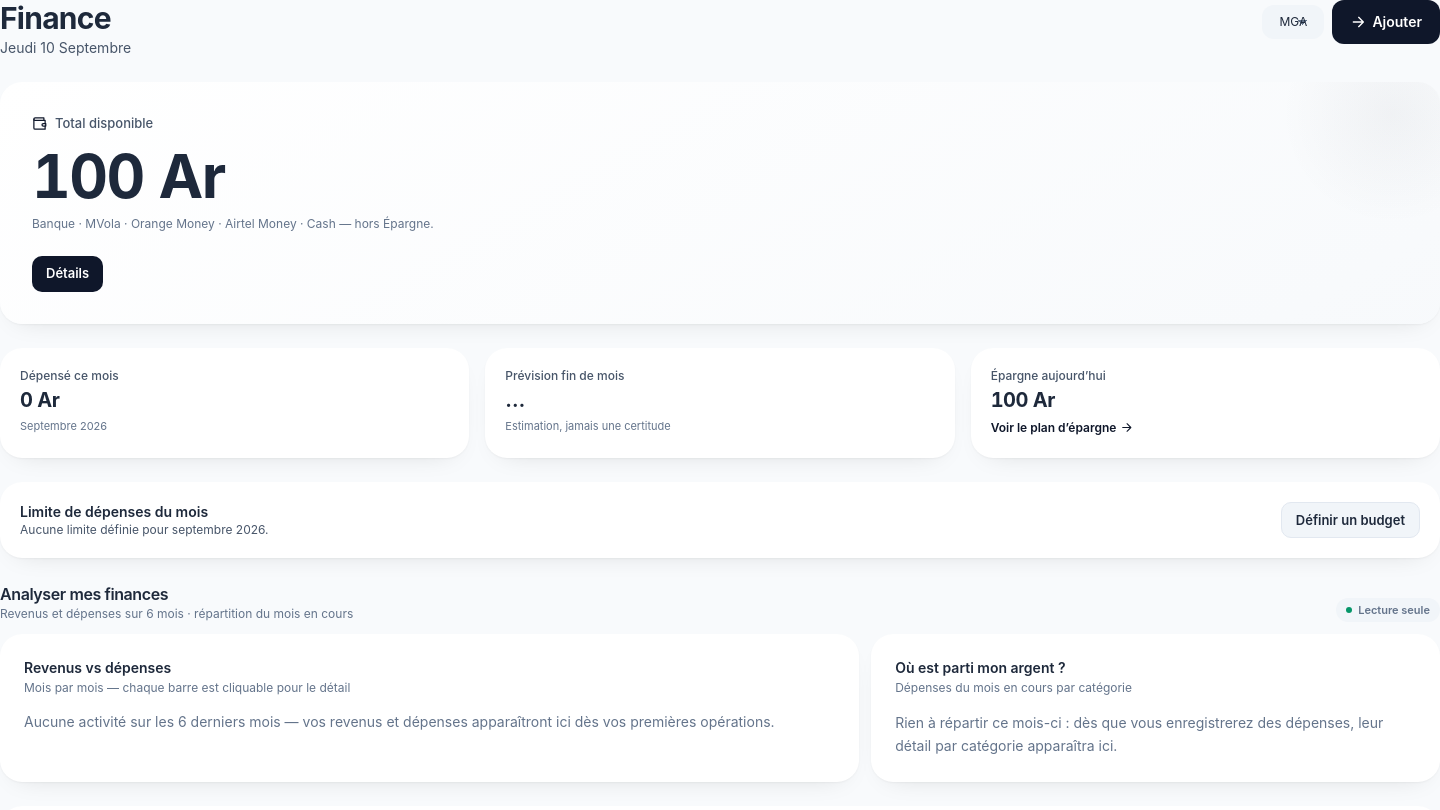
Home details list › renders AccountRow directly under ul without nested li or React warnings
Click the button "Détails": (68, 274) left=32, top=256, right=103, bottom=292
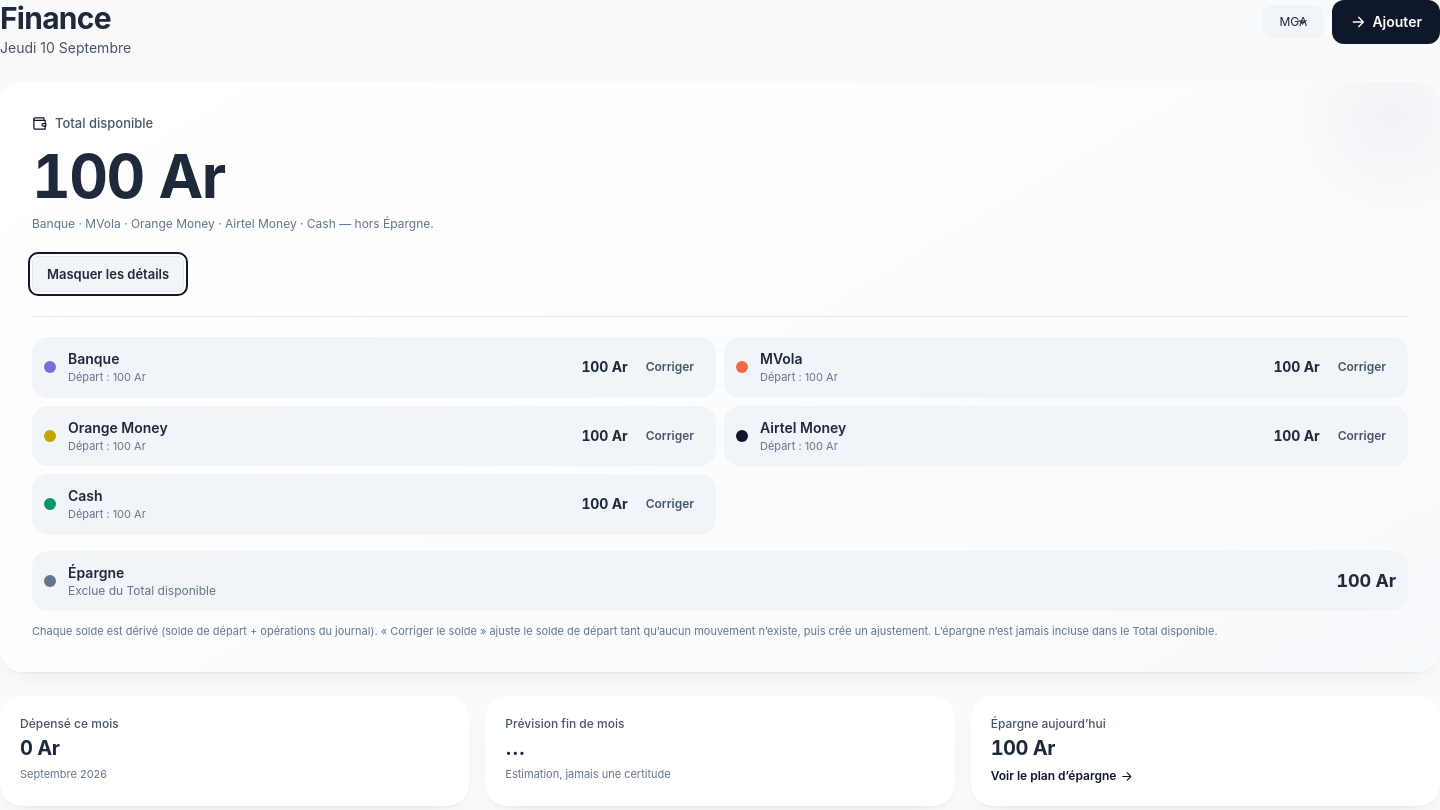
expect the text "MVola" is shown: met, box left=760, top=350, right=802, bottom=367
